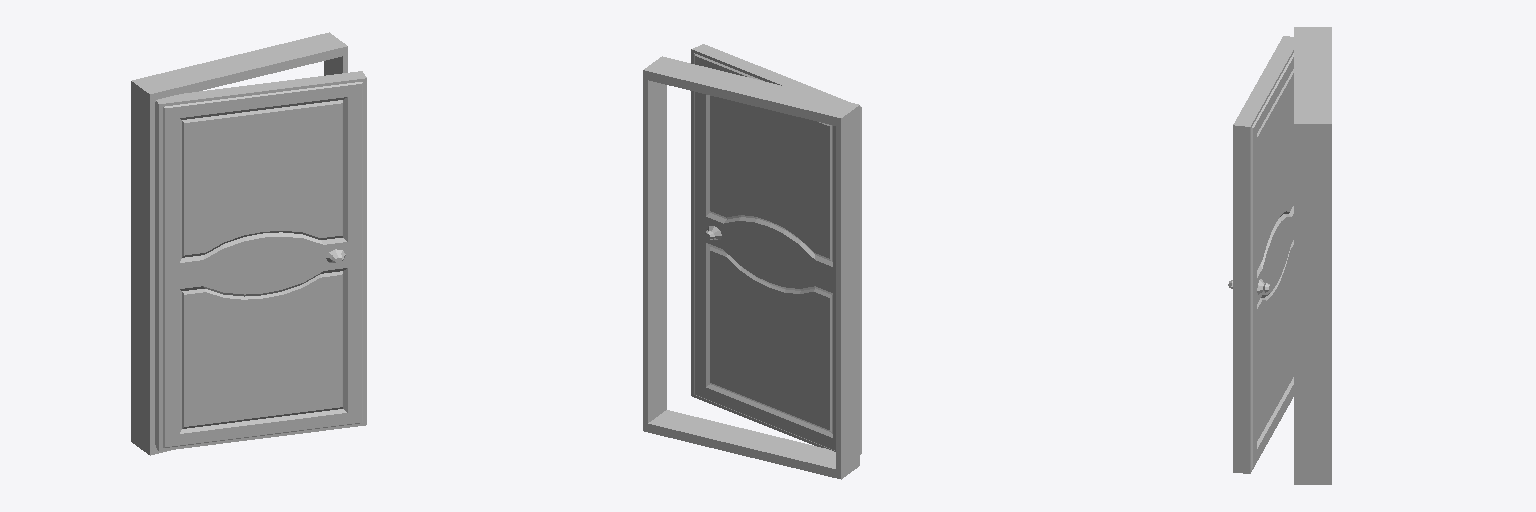
The model's file is drzwiok_000031.obj.
The picture shows the model from 3 angles: view 1: azimuth 30°, elevation 25°; view 2: azimuth 150°, elevation 25°; view 3: azimuth 270°, elevation 25°; orthographic projection.
Parts seen in each view (by area): view 1: Door_4.001_Cube.001, Kostka; view 2: Door_4.001_Cube.001, Kostka; view 3: Door_4.001_Cube.001, Kostka.
Boxes of the visible parts, box(x1,y1,x2,y2) form: Door_4.001_Cube.001: box(155, 71, 366, 451); Kostka: box(131, 32, 347, 455); Door_4.001_Cube.001: box(691, 44, 861, 454); Kostka: box(643, 56, 859, 479); Door_4.001_Cube.001: box(1228, 36, 1293, 473); Kostka: box(1294, 27, 1331, 484).
Bounding box in the file's own units: 0.7416 × 1.29 × 0.3346.